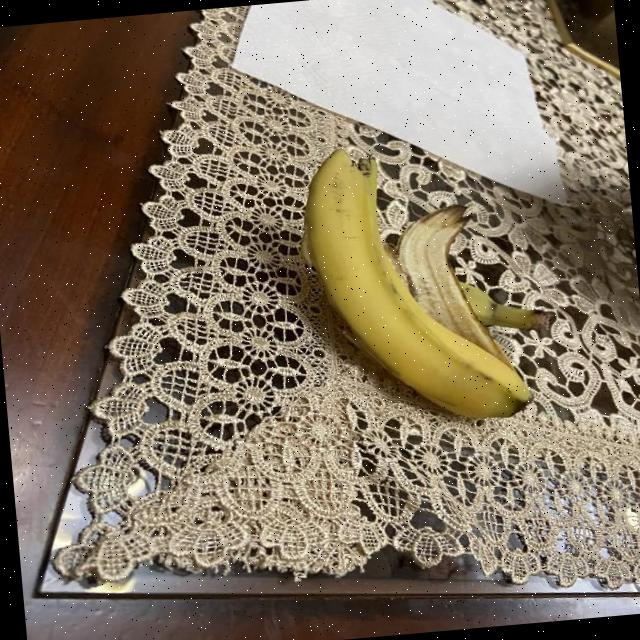banana-peel: (293, 130, 553, 434)
